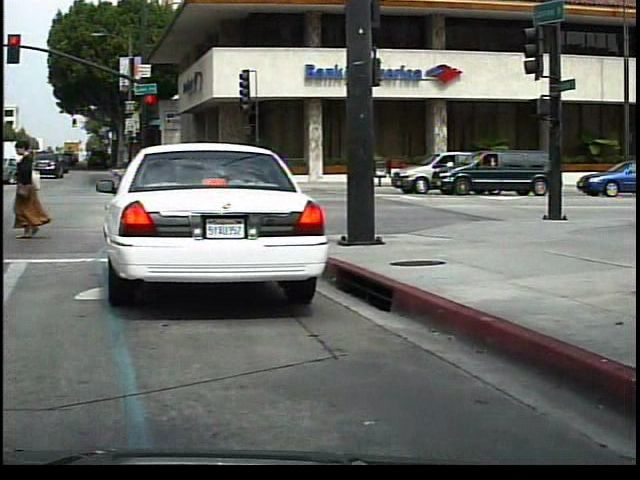person: (13, 136, 63, 242)
